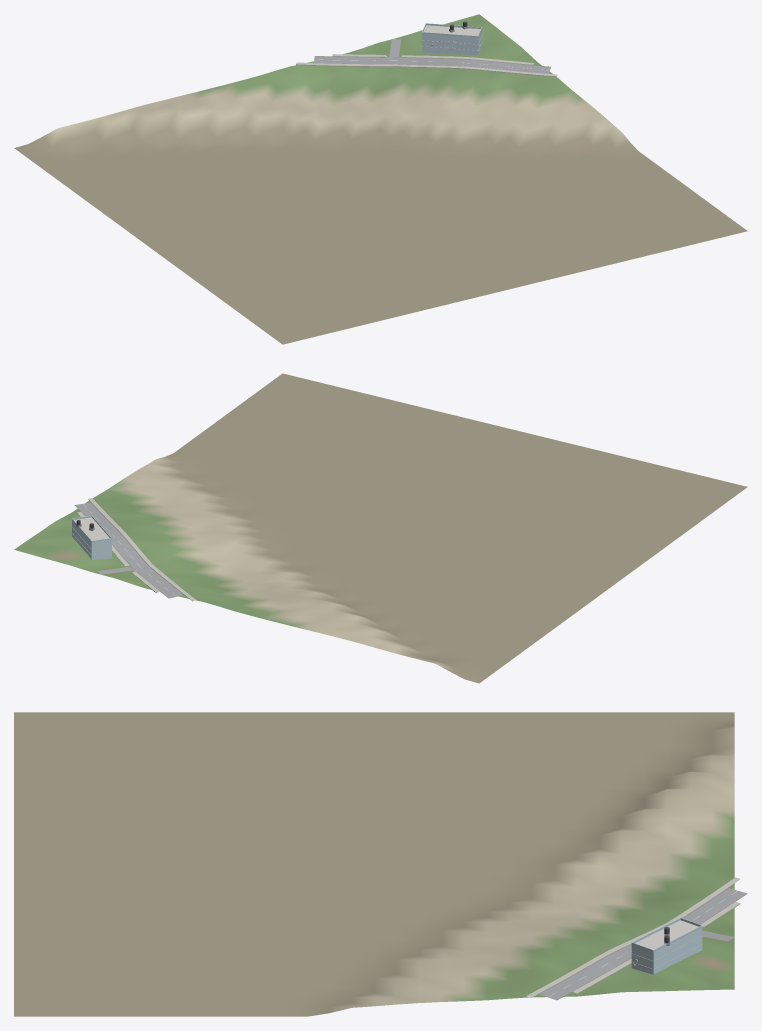
3 renders of one model, top to bottom at view 1: azimuth 30°, elevation 25°; view 2: azimuth 150°, elevation 25°; view 3: azimuth 270°, elevation 25°, orthographic. The views are drawn at different scales.
Visible parts, largest first — view 1: Terrain-col, Roads-col, Buildings-col, Sidewalks-col, Details; view 2: Terrain-col, Roads-col, Buildings-col, Sidewalks-col; view 3: Terrain-col, Roads-col, Buildings-col, Sidewalks-col, Details.
Boxes of the visible parts, x1,y1,x2,y2 form: Terrain-col: [14, 14, 747, 344]; Roads-col: [314, 39, 550, 73]; Buildings-col: [422, 25, 481, 55]; Sidewalks-col: [296, 54, 557, 77]; Details: [421, 21, 482, 51]; Terrain-col: [14, 373, 747, 683]; Roads-col: [74, 502, 184, 598]; Buildings-col: [72, 517, 111, 559]; Sidewalks-col: [76, 498, 196, 601]; Terrain-col: [14, 712, 734, 1016]; Roads-col: [538, 888, 747, 1000]; Buildings-col: [631, 920, 702, 974]; Sidewalks-col: [526, 877, 740, 997]; Details: [631, 917, 702, 969].
Bounding box in the file's own units: 259 × 21.44 × 261.
